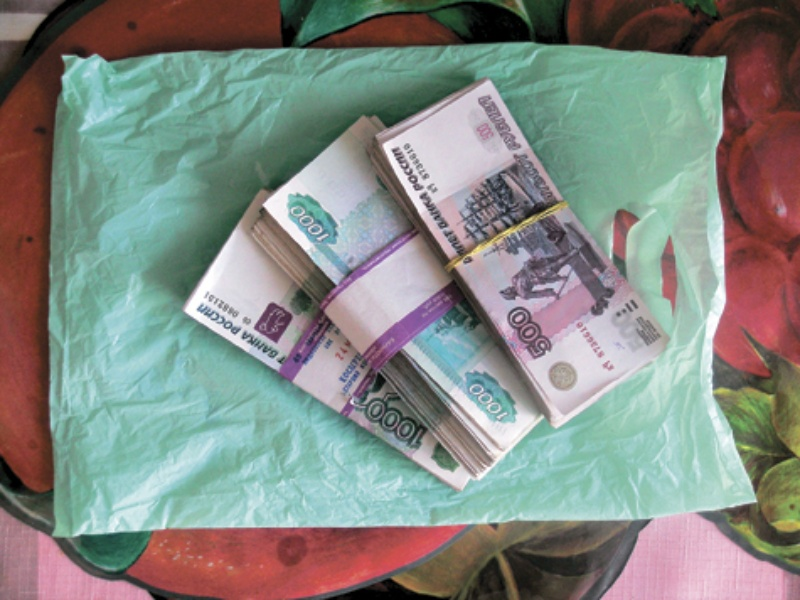cash: (250, 116, 545, 477), (370, 78, 674, 428), (184, 187, 473, 492)
